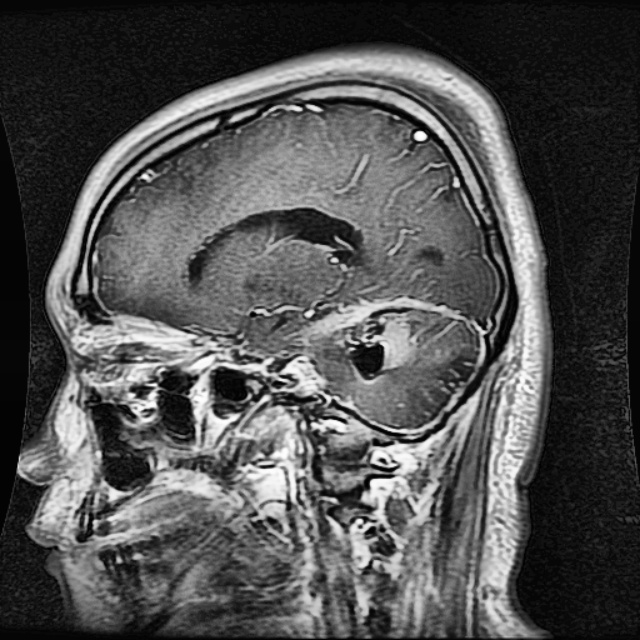Meningioma: (342, 303, 415, 380)
